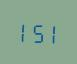five: (32, 19, 44, 44)
one: (18, 18, 30, 43), (45, 20, 57, 44)
